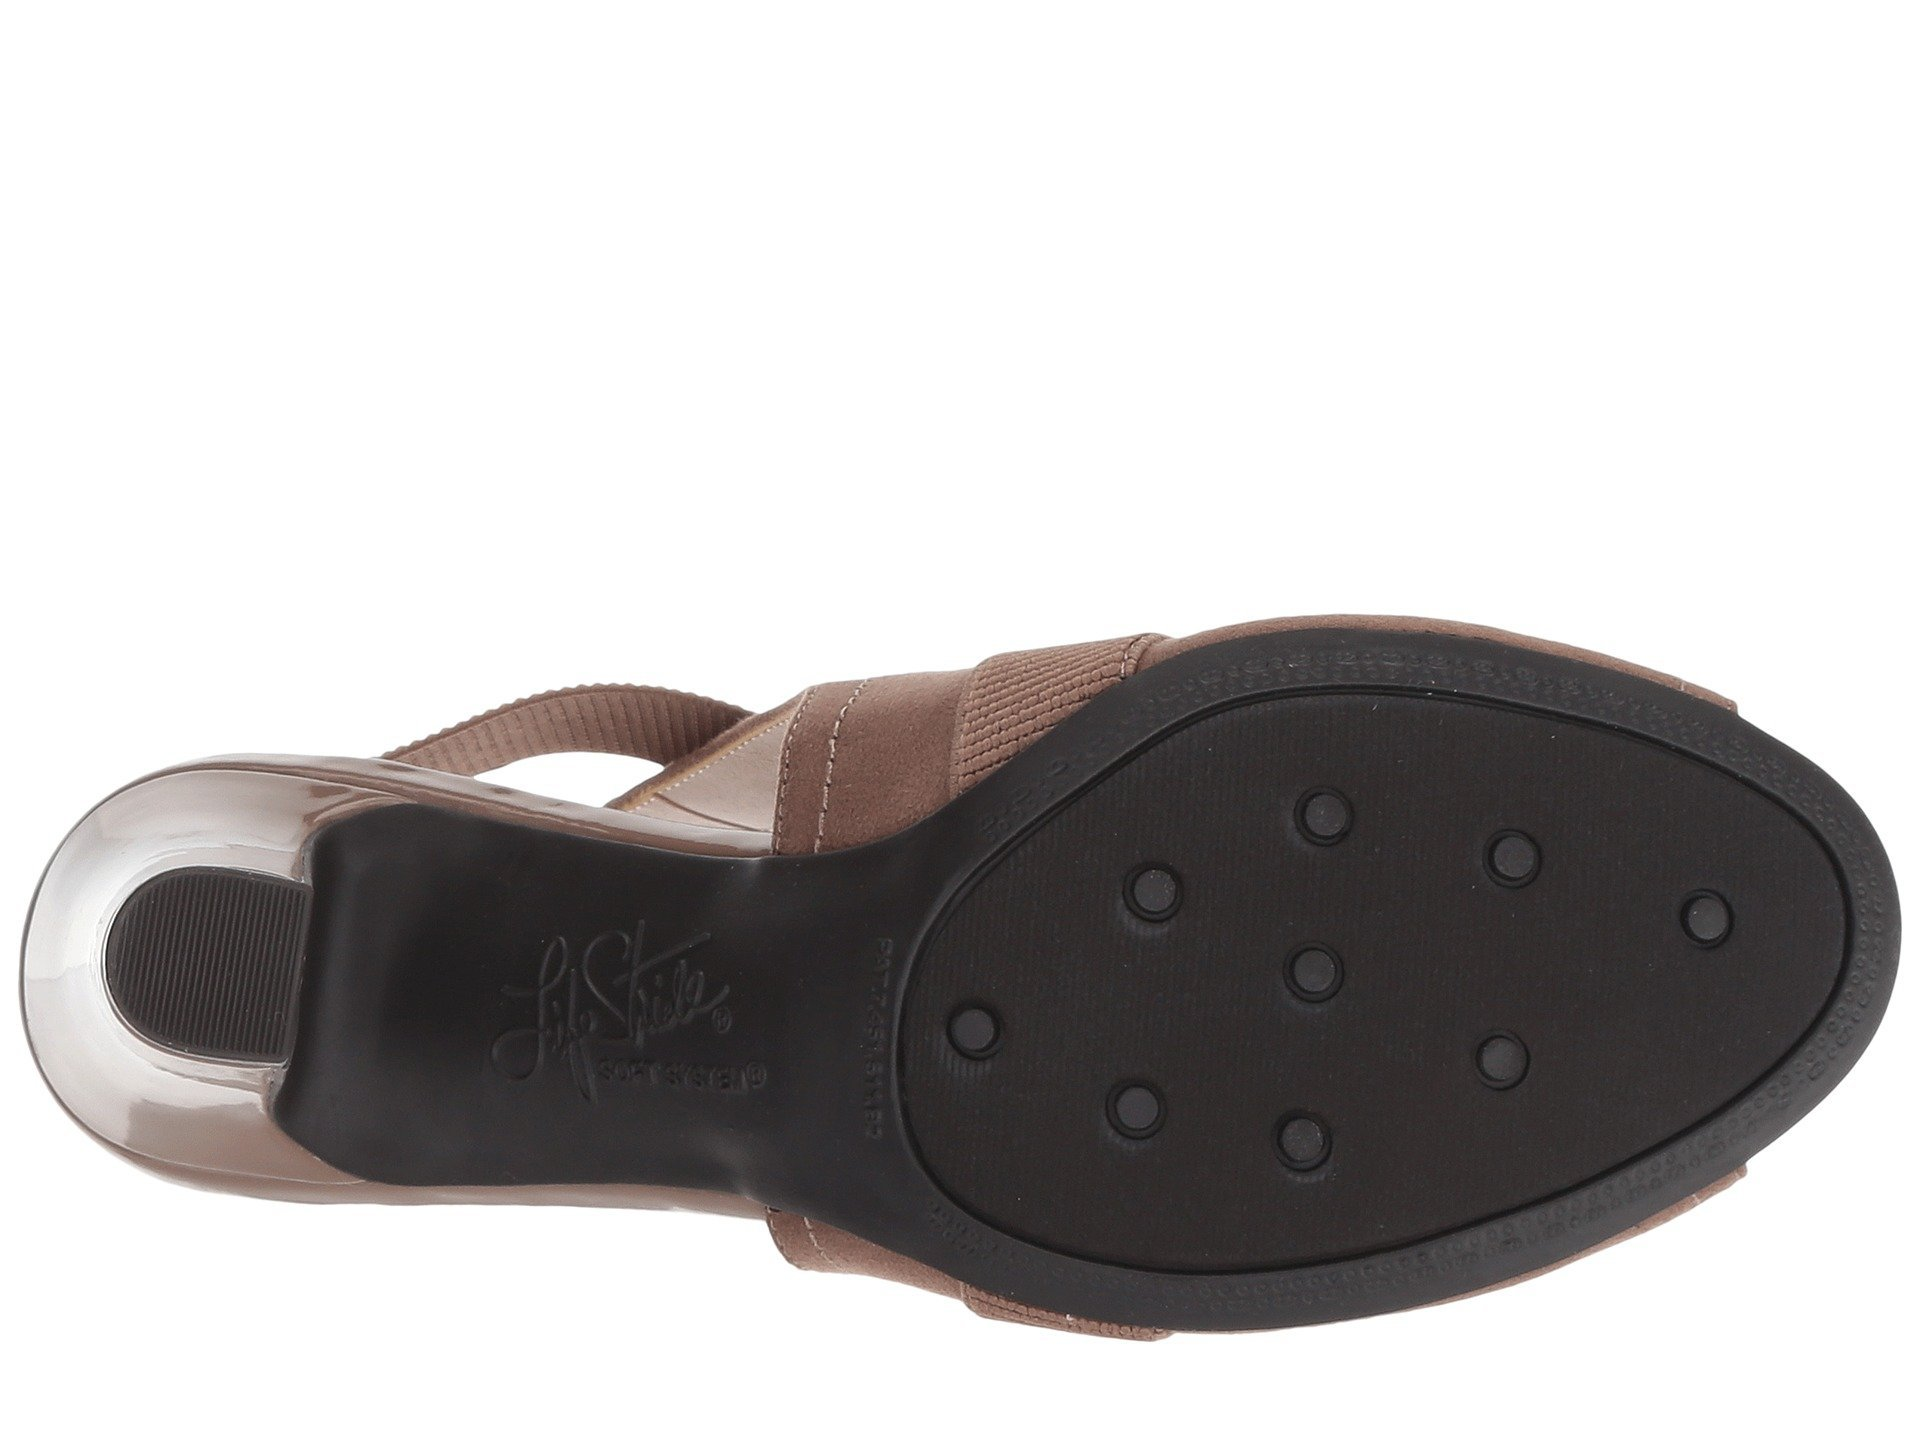circle: (1089, 765, 1581, 1178), (1661, 874, 1770, 998), (937, 997, 1010, 1080)
line: (154, 909, 290, 1027)
